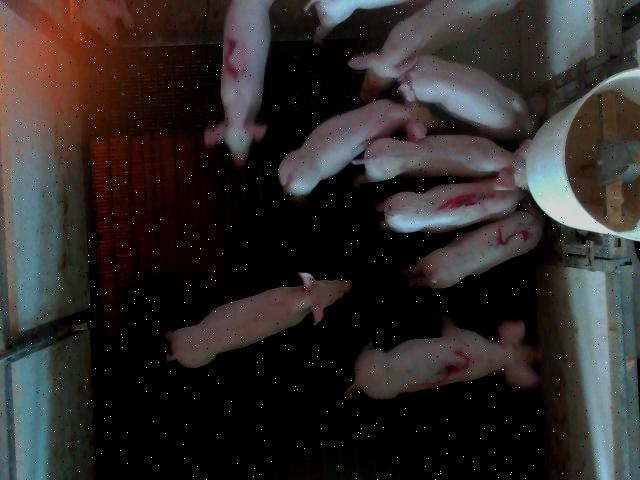pig-1: (376, 178, 524, 232)
pig-2: (204, 2, 272, 168)
pig-3: (346, 313, 541, 399)
pig-5: (402, 204, 545, 288)
